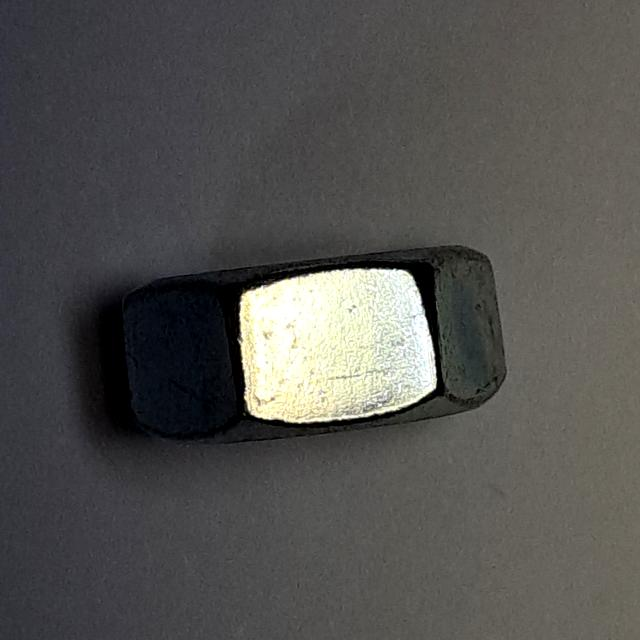Side_Excellent: (105, 224, 521, 456)
